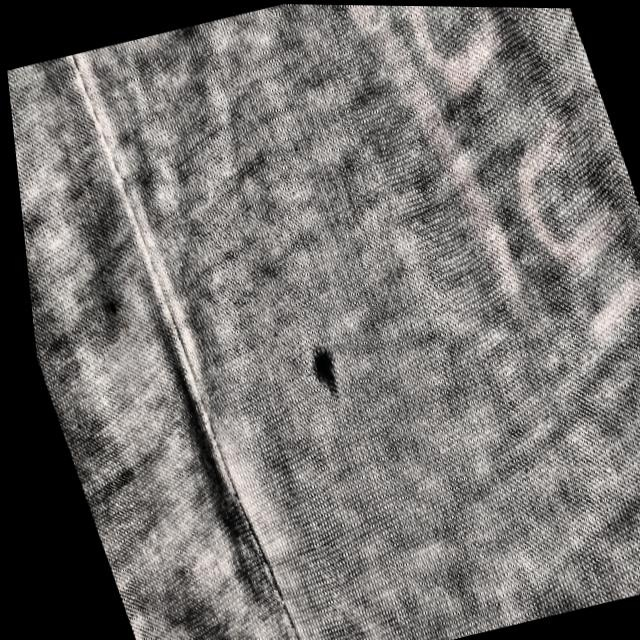Hole: (295, 329, 354, 411)
